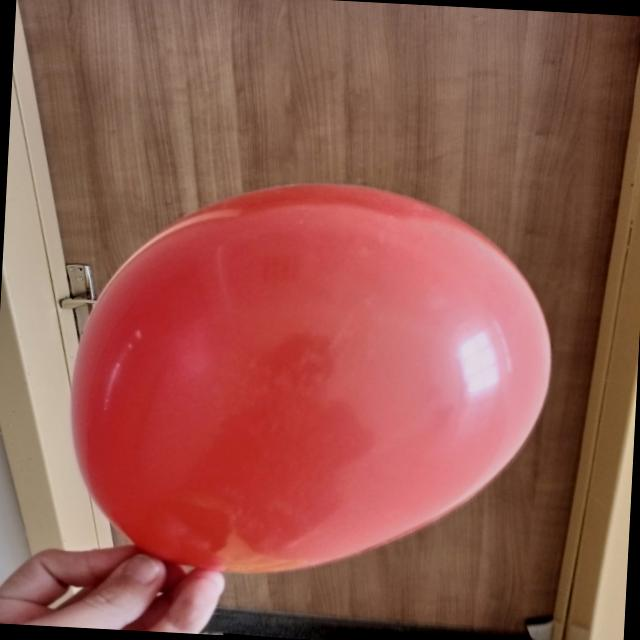balloon: (72, 184, 551, 572)
